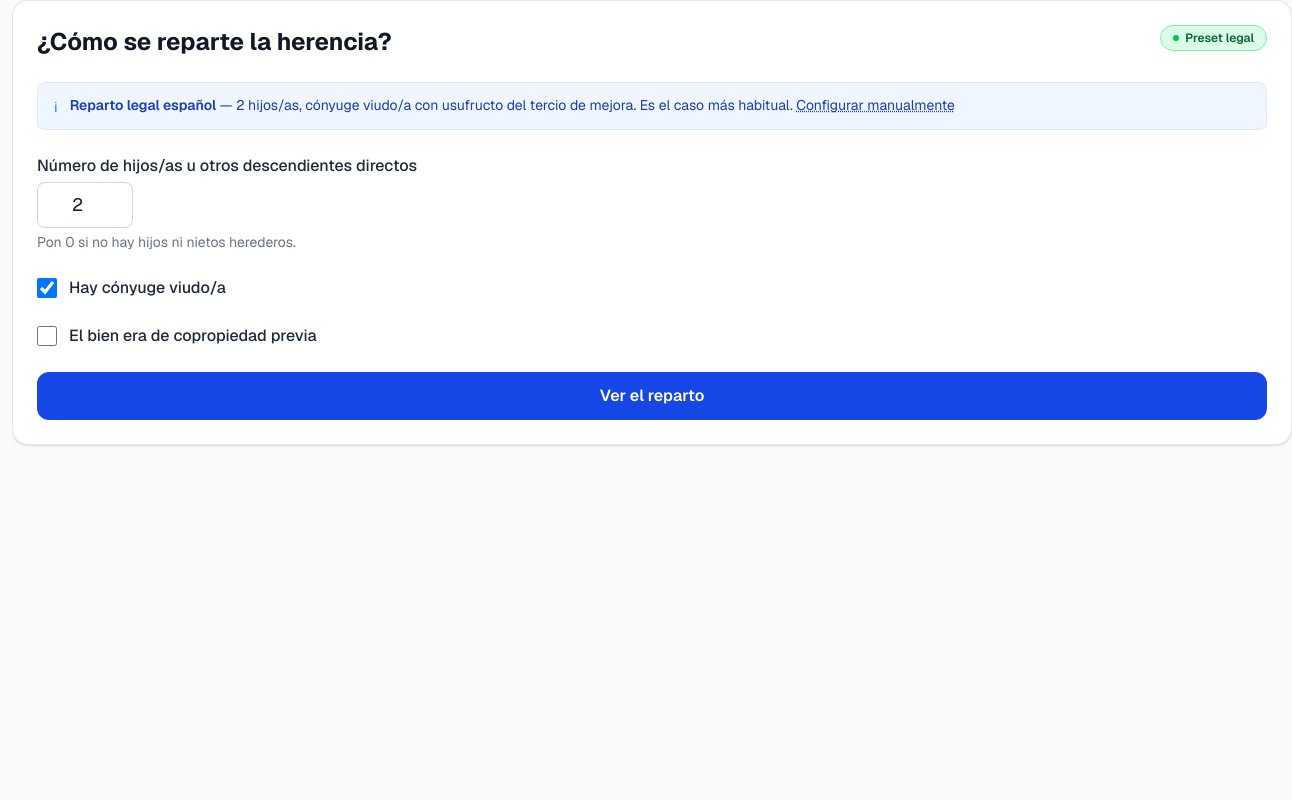
Test: SimulatorForm › submits form and shows result with default inputs
Click the button "Ver el reparto" at (652, 396), box [37,372,1267,420]
(page scrolled)
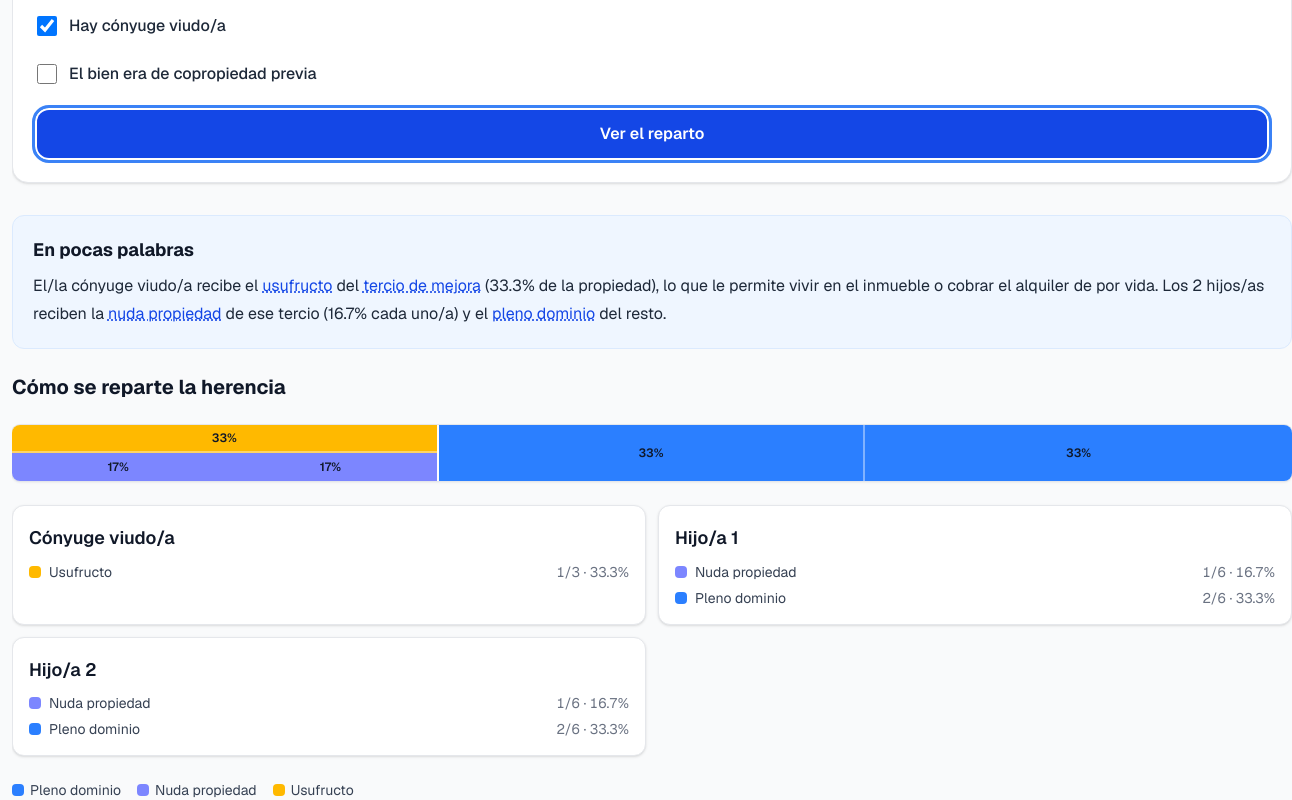
Now the element named "resumen del reparto" is shown, box [12,215,1291,349]
Now the element named "diagrama de reparto" is shown, box [12,373,1291,799]
